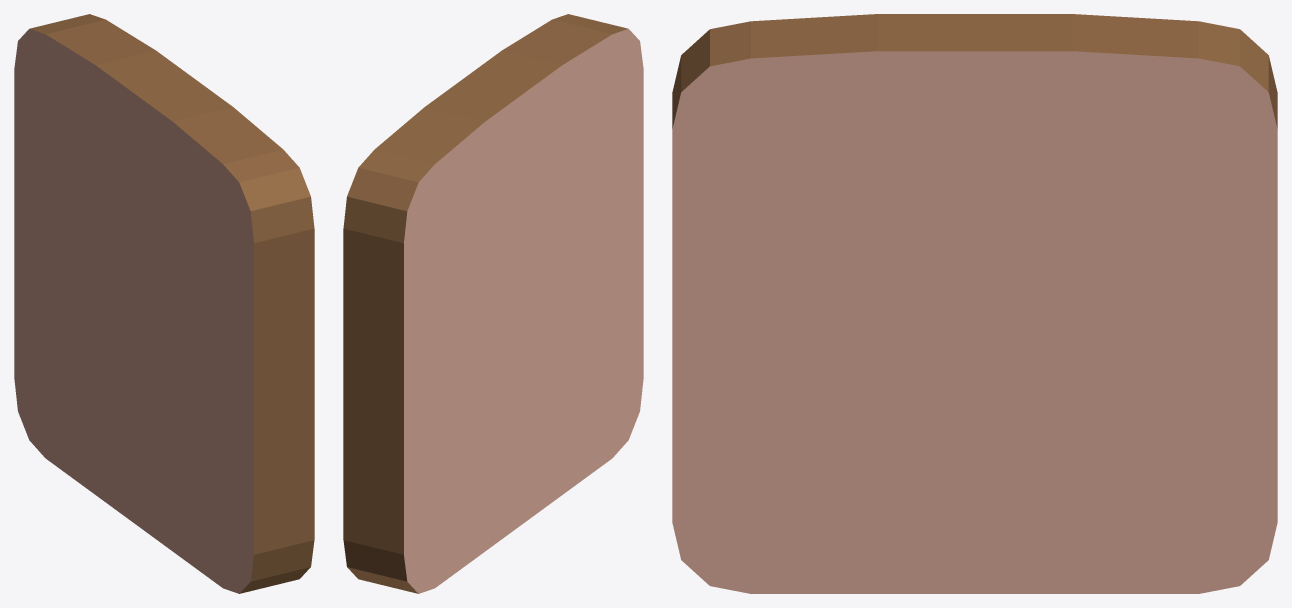
The model's file is bread_slice.glb.
3 renders of one model, left to right at view 1: azimuth 30°, elevation 25°; view 2: azimuth 150°, elevation 25°; view 3: azimuth 270°, elevation 25°, orthographic. The views are drawn at different scales.
Visible parts, largest first — view 1: Bread Slice; view 2: Bread Slice; view 3: Bread Slice.
Boxes of the visible parts, x1=… form: Bread Slice: x1=14, y1=14, x2=314, y2=593; Bread Slice: x1=343, y1=14, x2=643, y2=593; Bread Slice: x1=672, y1=14, x2=1277, y2=593.
Size of the model in its own units: 0.0183 by 0.1244 by 0.1257.
1 material, 1 textured.
